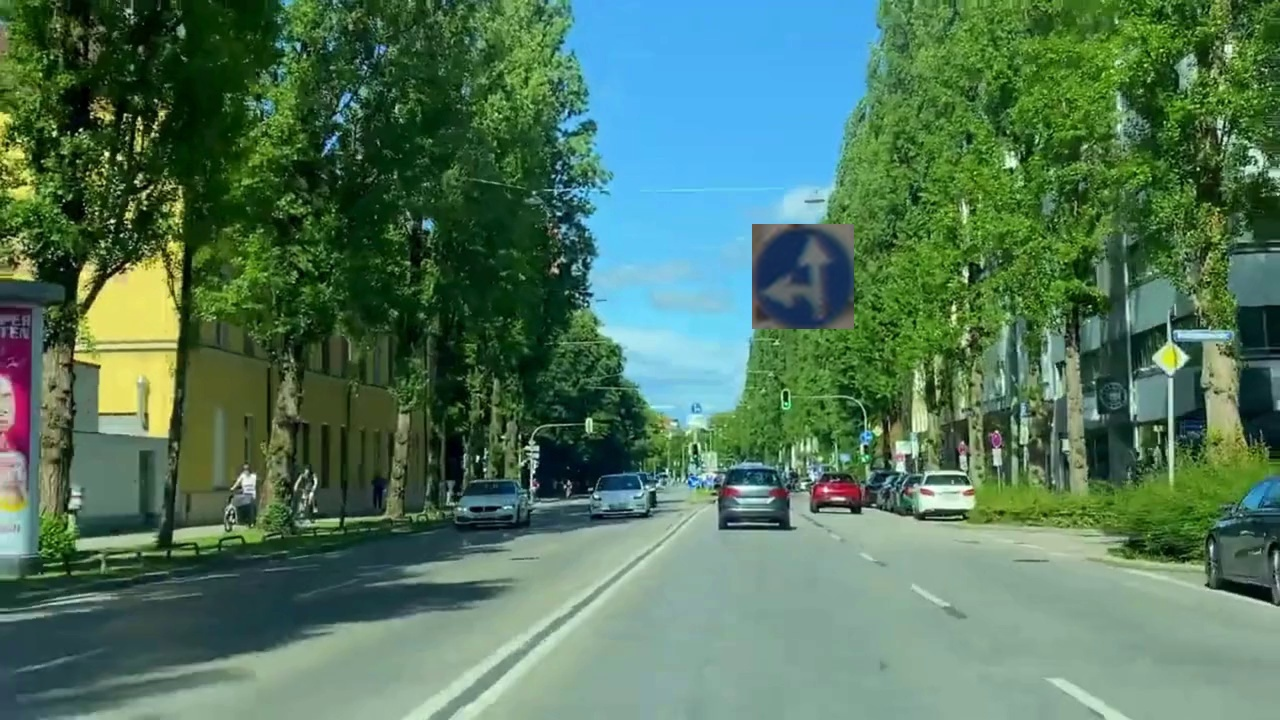Straight/left: (752, 224, 854, 329)
